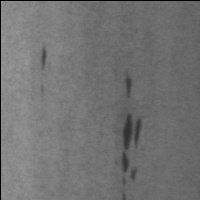inclusion: (119, 112, 143, 200), (37, 42, 52, 72), (122, 69, 136, 101)
